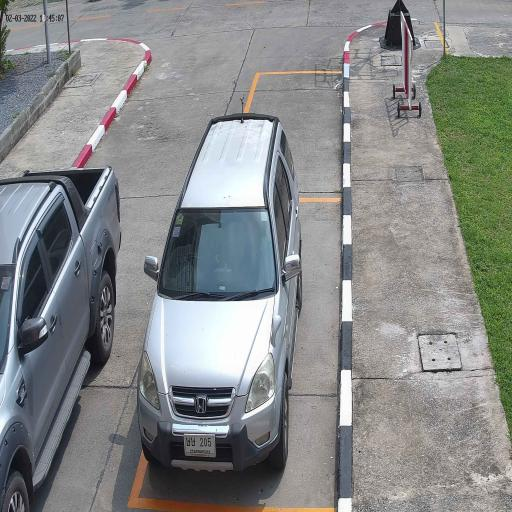car: (136, 112, 303, 481), (0, 166, 123, 510)
